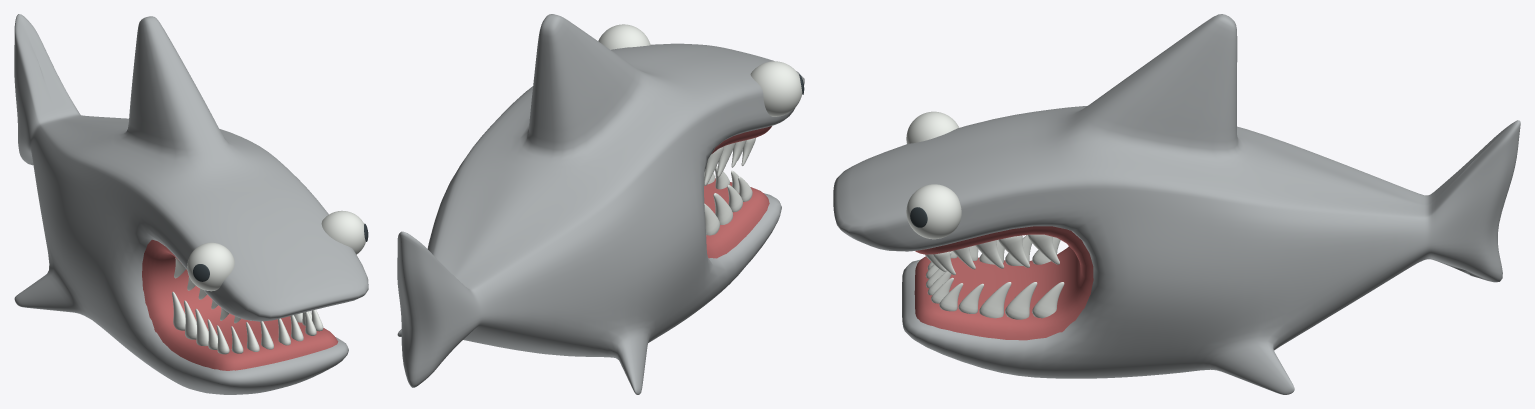
The model's file is Shark.fbx.
The picture shows the model from 3 angles, left to right: view 1: azimuth 30°, elevation 25°; view 2: azimuth 150°, elevation 25°; view 3: azimuth 270°, elevation 25°; orthographic projection. The views are drawn at different scales.
Visible parts, largest first — view 1: Shark; view 2: Shark; view 3: Shark.
Part boxes in pixels (x1,y1,x2,y2): Shark: [14, 14, 368, 394]; Shark: [397, 14, 804, 394]; Shark: [833, 14, 1520, 394].
Bounding box in the file's own units: 11.72 × 16.4 × 29.53.
